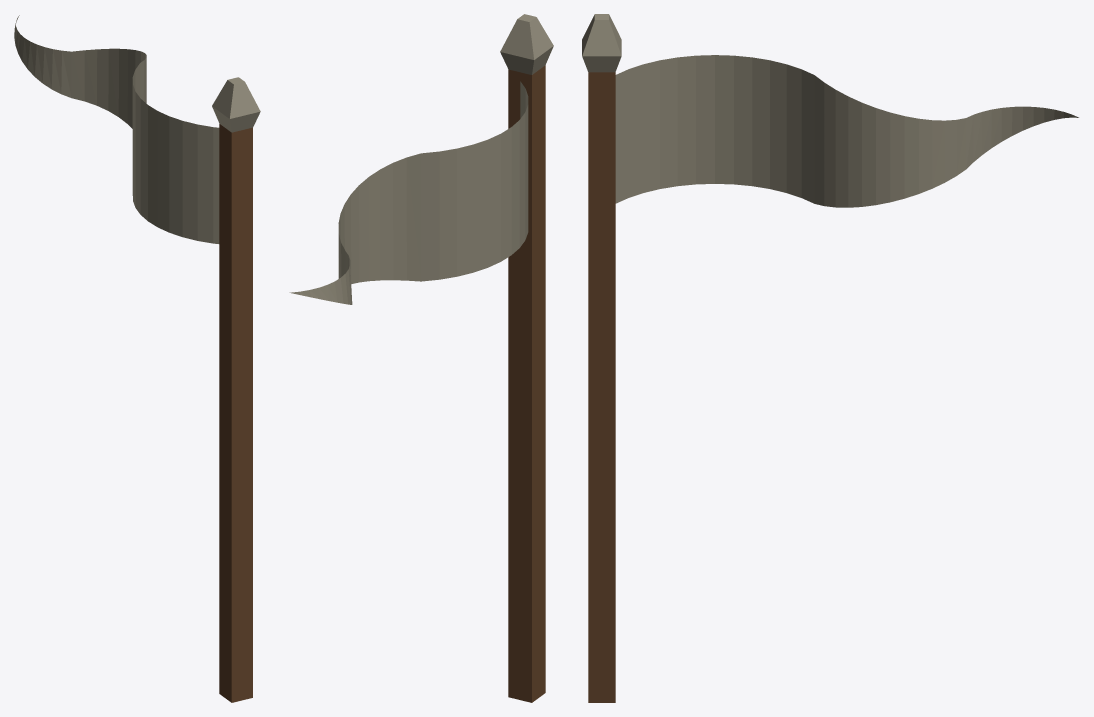
Rendered from flagBlue.glb.
3 renders of one model, left to right at view 1: azimuth 30°, elevation 25°; view 2: azimuth 150°, elevation 25°; view 3: azimuth 270°, elevation 25°, orthographic. The views are drawn at different scales.
Visible parts, largest first — view 1: mesh_0, mesh_1; view 2: mesh_1, mesh_0; view 3: mesh_1, mesh_0.
Boxes of the visible parts, x1,y1,x2,y2 form: mesh_0: [219, 124, 252, 702]; mesh_1: [14, 15, 260, 243]; mesh_1: [289, 14, 553, 304]; mesh_0: [508, 65, 545, 702]; mesh_1: [582, 14, 1078, 207]; mesh_0: [588, 72, 615, 702].
Size of the model in its own units: 0.8991 by 7.92 by 5.25.
